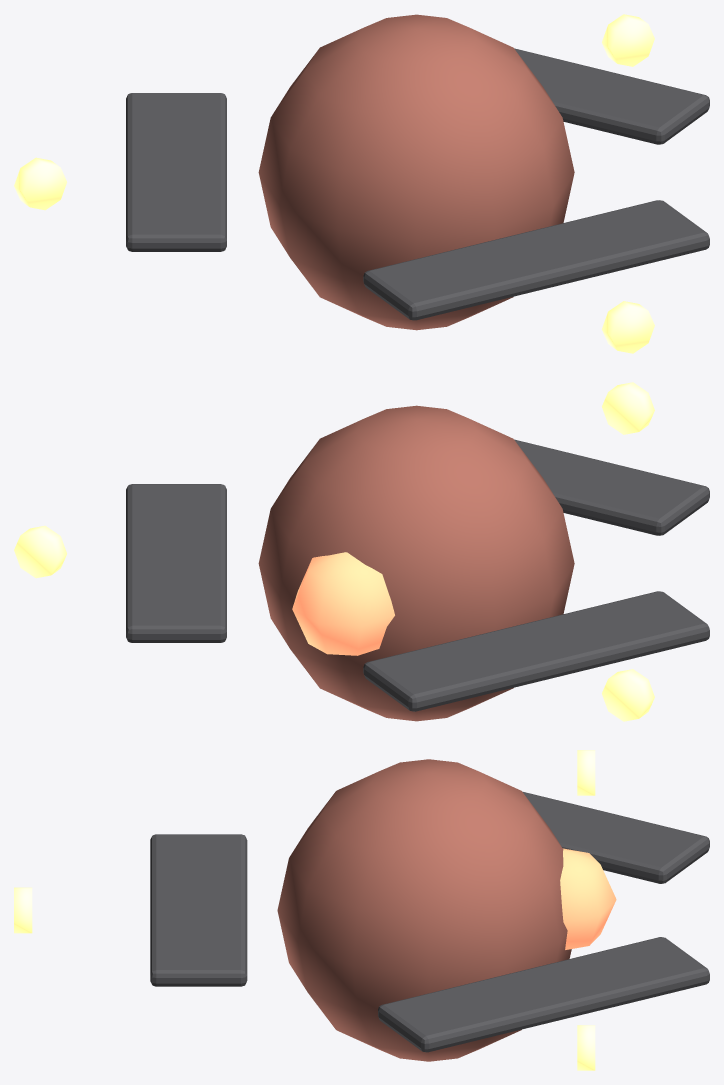
File: drohne.glb
3 views of the same model, one above another, from view 1: azimuth 30°, elevation 25°; view 2: azimuth 150°, elevation 25°; view 3: azimuth 270°, elevation 25° (orthographic). The views are drawn at different scales.
Parts seen in each view (by area): view 1: Kern.002, Fluegel1.001, Fluegel2, Fluegel0, Duese0, Duese1.003, Duese2; view 2: Kern.002, Fluegel2, Fluegel0, Fluegel1.001, Auge.005, Duese1.003, Duese2, Duese0; view 3: Kern.002, Fluegel0, Fluegel1.001, Fluegel2, Auge.005, Duese1.003, Duese0, Duese2.
Boxes of the visible parts, box(x1,y1,x2,y2) form: Kern.002: box(258, 14, 574, 330); Fluegel1.001: box(363, 200, 709, 320); Fluegel2: box(126, 93, 226, 251); Fluegel0: box(514, 48, 709, 144); Duese0: box(602, 14, 654, 66); Duese1.003: box(602, 301, 654, 353); Duese2: box(14, 157, 66, 210); Kern.002: box(258, 405, 574, 721); Fluegel2: box(363, 591, 709, 711); Fluegel0: box(126, 484, 226, 642); Fluegel1.001: box(514, 439, 709, 535); Auge.005: box(292, 552, 394, 655); Duese1.003: box(602, 382, 654, 434); Duese2: box(602, 669, 654, 721); Duese0: box(14, 525, 66, 578); Kern.002: box(277, 759, 571, 1061); Fluegel0: box(378, 937, 709, 1052); Fluegel1.001: box(150, 834, 247, 986); Fluegel2: box(522, 791, 709, 883); Auge.005: box(560, 848, 616, 949); Duese1.003: box(14, 887, 32, 933); Duese0: box(577, 1025, 595, 1070); Duese2: box(577, 750, 595, 795).
Bounding box in the file's own units: 1.15 × 0.5 × 1.15.
